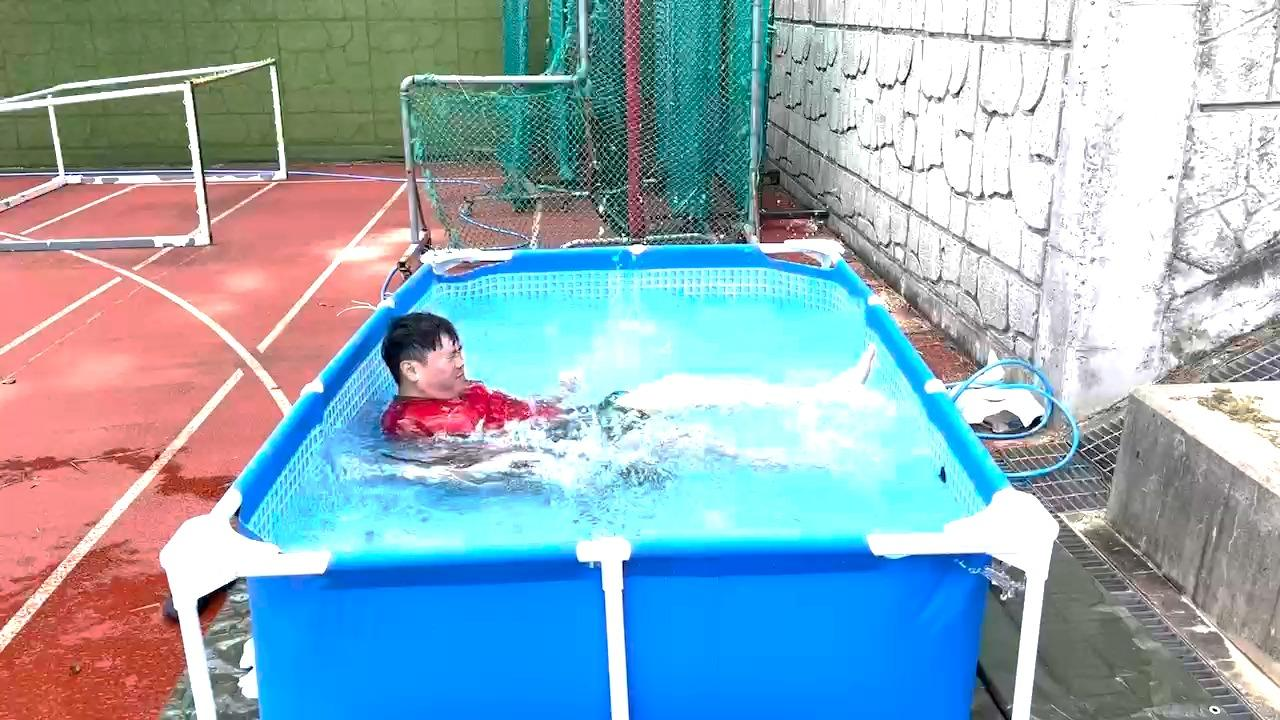Drowning: (389, 319, 885, 483)
